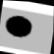correct: (2, 12, 35, 41)
